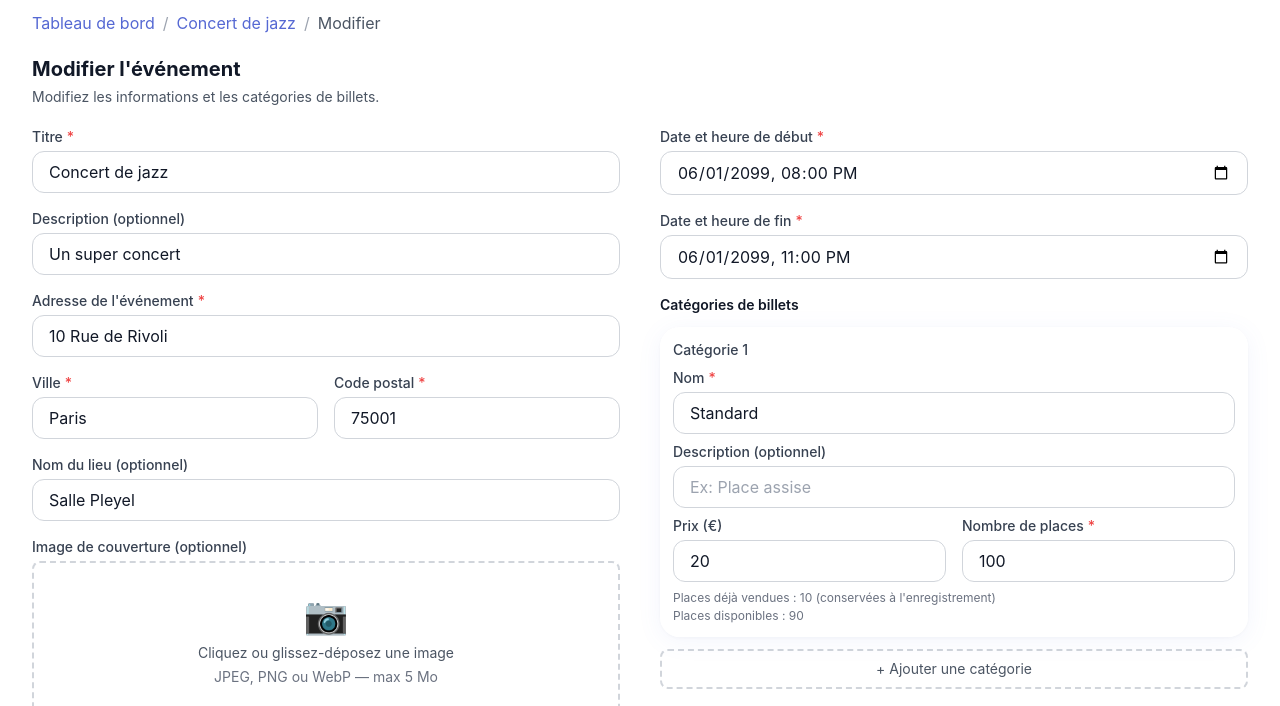
Test case: EventEditPage - professional event › requires a title
Expected: the heading "Modifier l'événement" is shown, [32, 57, 240, 81]
Clear the field labelled "Titre*" at (326, 172), box [32, 151, 620, 193]
(page scrolled)
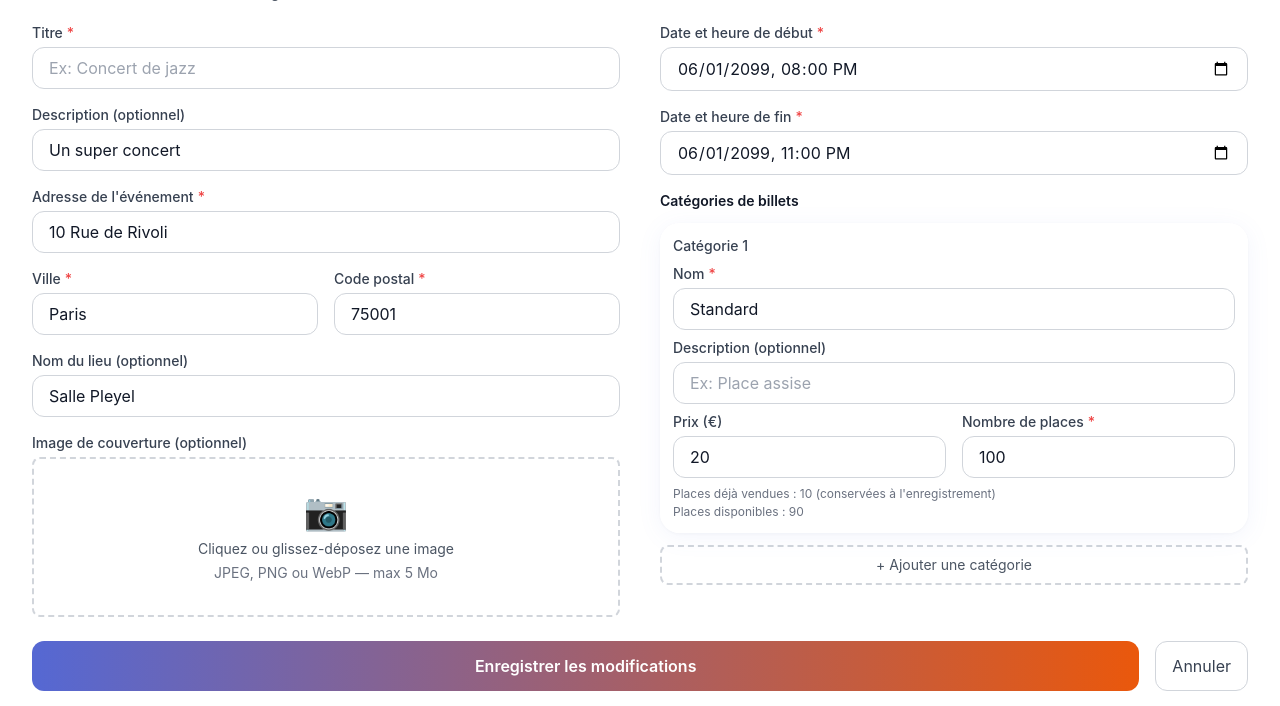
Click the button "Enregistrer les modifications".
click(586, 666)  # box [32, 641, 1139, 691]
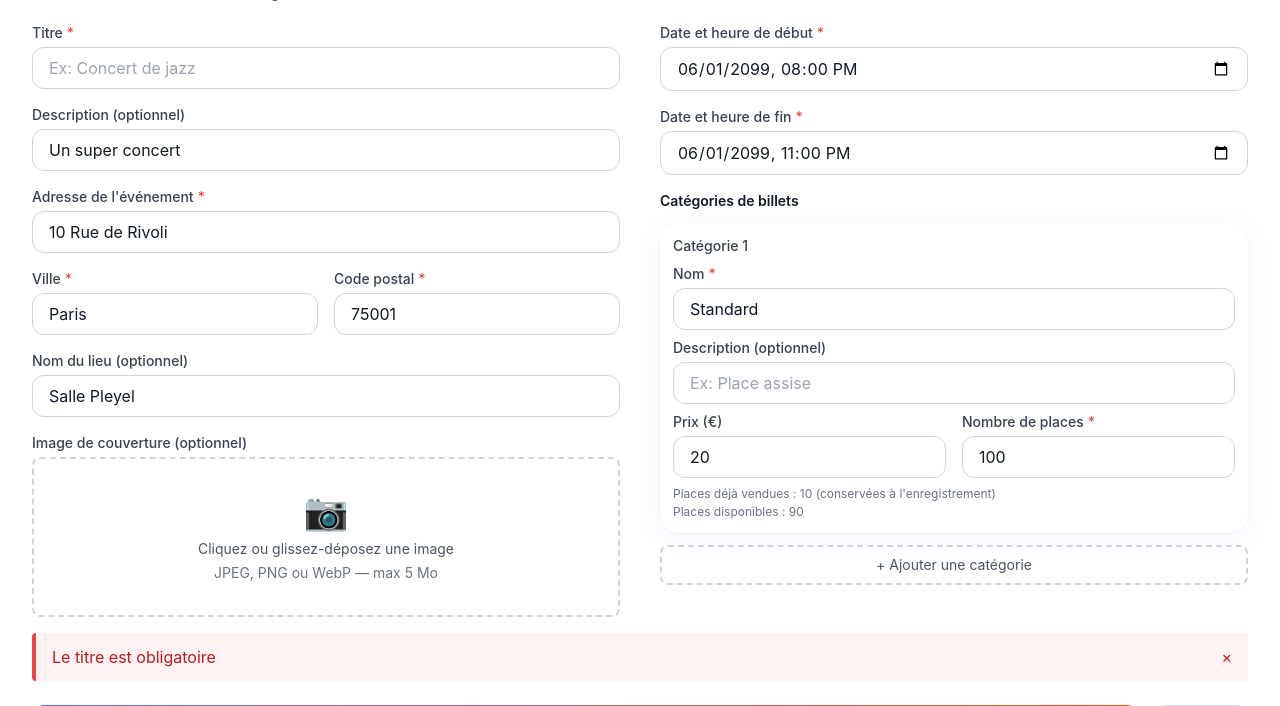
Result: the text "Le titre est obligatoire" is shown at [52, 645, 216, 669]
